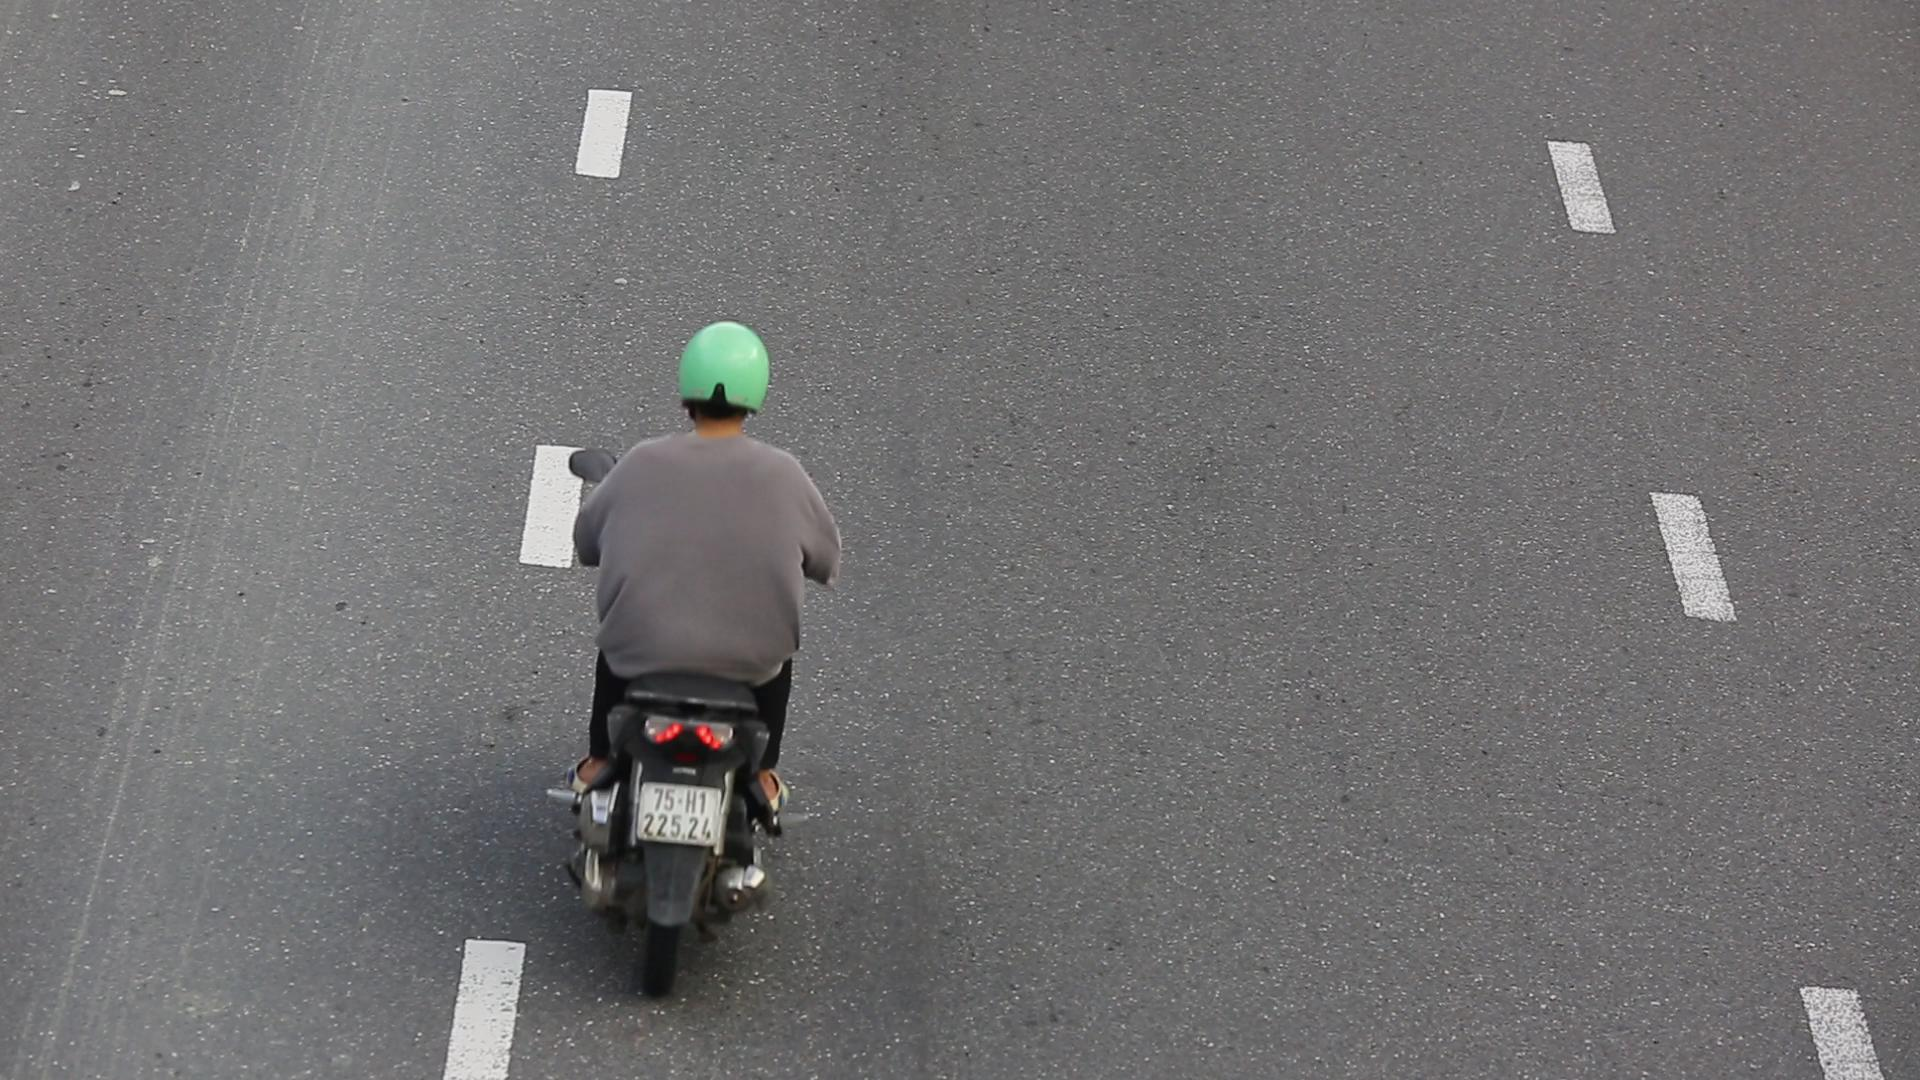motobike: (559, 315, 843, 1007)
